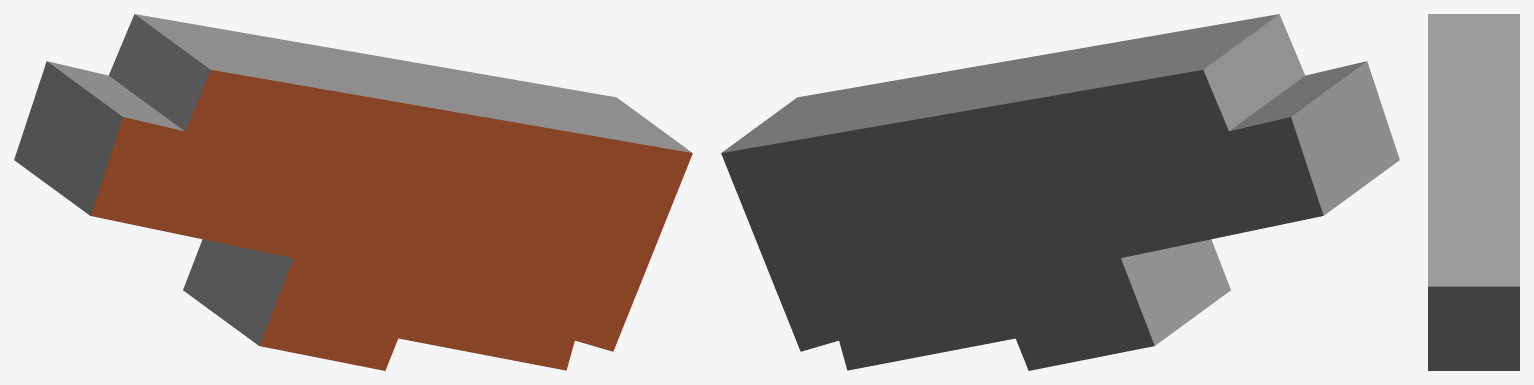
File: construction_2570_assumed_A_Casa_h6m.obj
3 views of the same model, side by side, from view 1: azimuth 30°, elevation 25°; view 2: azimuth 150°, elevation 25°; view 3: azimuth 270°, elevation 25° (orthographic). The views are drawn at different scales.
Visible parts, largest first — view 1: construction_2570_assumed_A_Casa; view 2: construction_2570_assumed_A_Casa; view 3: construction_2570_assumed_A_Casa.
Part boxes in pixels (left/top/right/bottom): construction_2570_assumed_A_Casa: left=14, top=14, right=692, bottom=370; construction_2570_assumed_A_Casa: left=721, top=14, right=1399, bottom=370; construction_2570_assumed_A_Casa: left=1428, top=14, right=1519, bottom=370.
Bounding box in the file's own units: 27.38 × 16.83 × 6.
